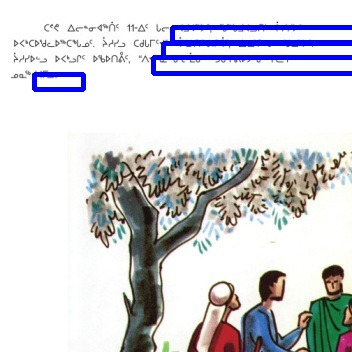inuktitut: (12, 49, 294, 65), (11, 36, 316, 50), (42, 20, 302, 35), (10, 67, 59, 82)
